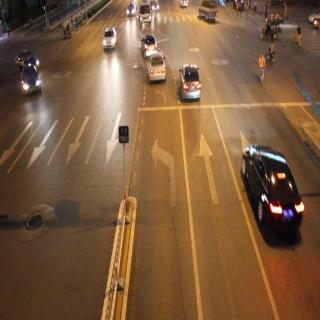Car: (240, 139, 309, 254), (176, 59, 212, 111), (14, 43, 44, 71), (21, 66, 45, 100), (147, 54, 170, 86), (99, 23, 121, 54), (136, 0, 157, 31), (199, 1, 219, 26), (141, 32, 159, 57)
